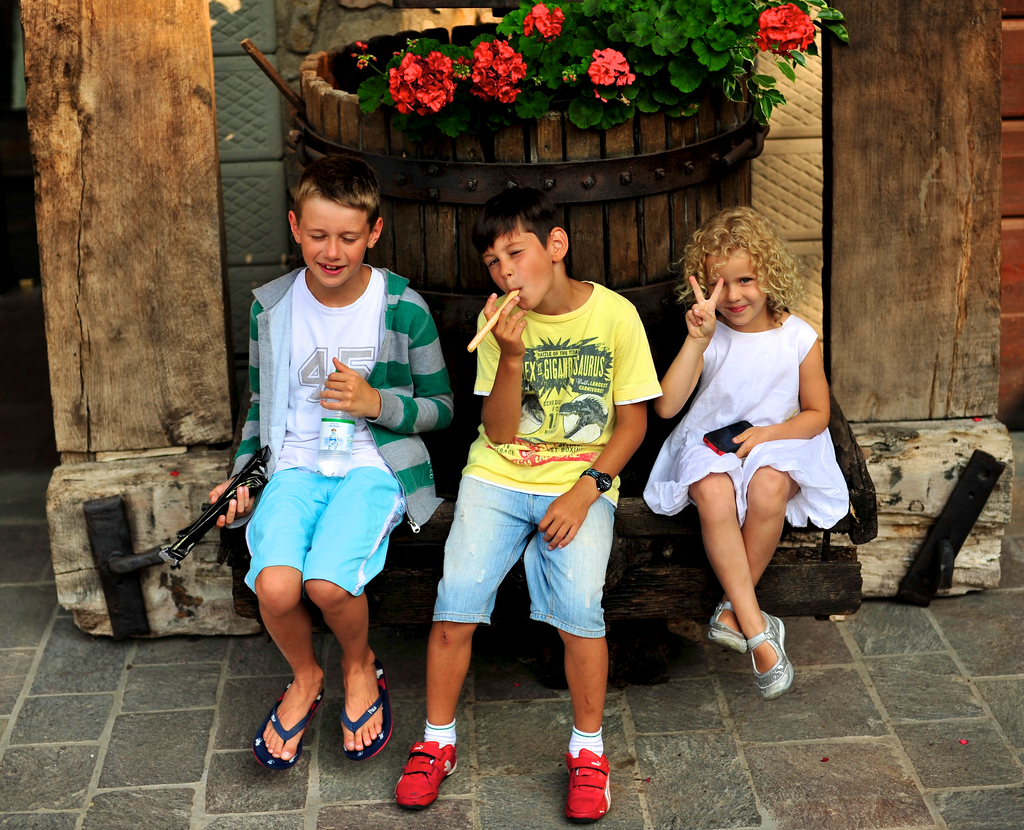Human_hand: (319, 355, 380, 418), (481, 286, 532, 361), (682, 271, 726, 345), (209, 475, 259, 530), (538, 496, 584, 548), (731, 423, 765, 460)
